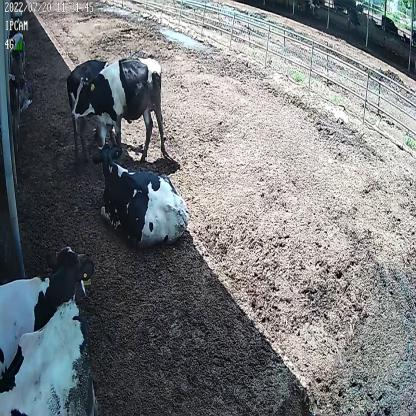cow: (90, 138, 191, 251), (72, 52, 166, 166)
